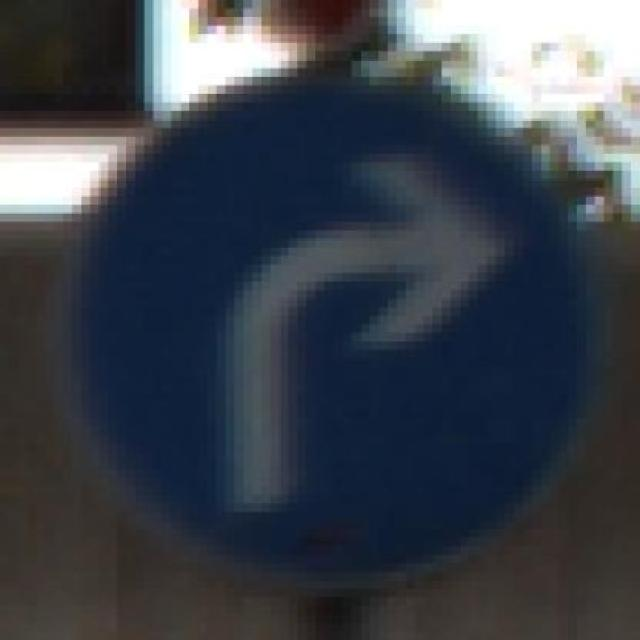Turn right ahead: (56, 55, 607, 577)
